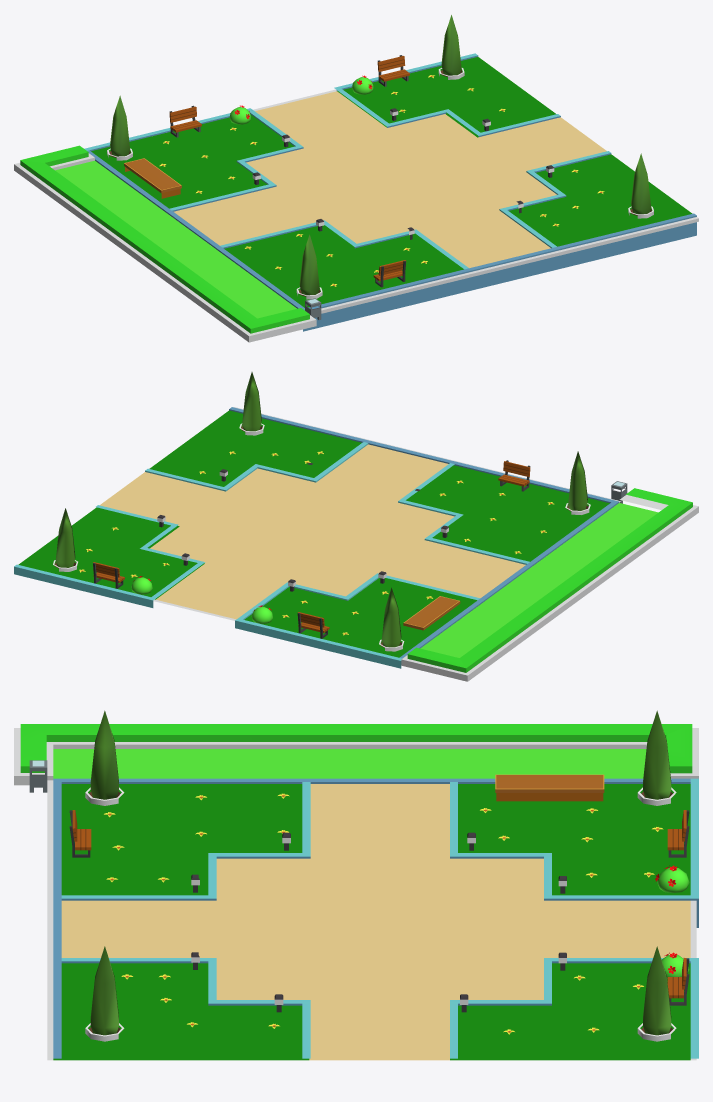
File: Khu vuon da unlock.002.gltf
3 renders of one model, top to bottom at view 1: azimuth 30°, elevation 25°; view 2: azimuth 150°, elevation 25°; view 3: azimuth 270°, elevation 25°, orthographic. The views are drawn at different scales.
Visible parts, largest first — view 1: Khu vuon da unlock.002; view 2: Khu vuon da unlock.002; view 3: Khu vuon da unlock.002.
Boxes of the visible parts, x1=… form: Khu vuon da unlock.002: x1=14, y1=15, x2=698, y2=342; Khu vuon da unlock.002: x1=14, y1=372, x2=698, y2=681; Khu vuon da unlock.002: x1=14, y1=710, x2=698, y2=1060.
Size of the model in its own units: 85.97 by 14.04 by 75.88.
1 material, 1 textured.
